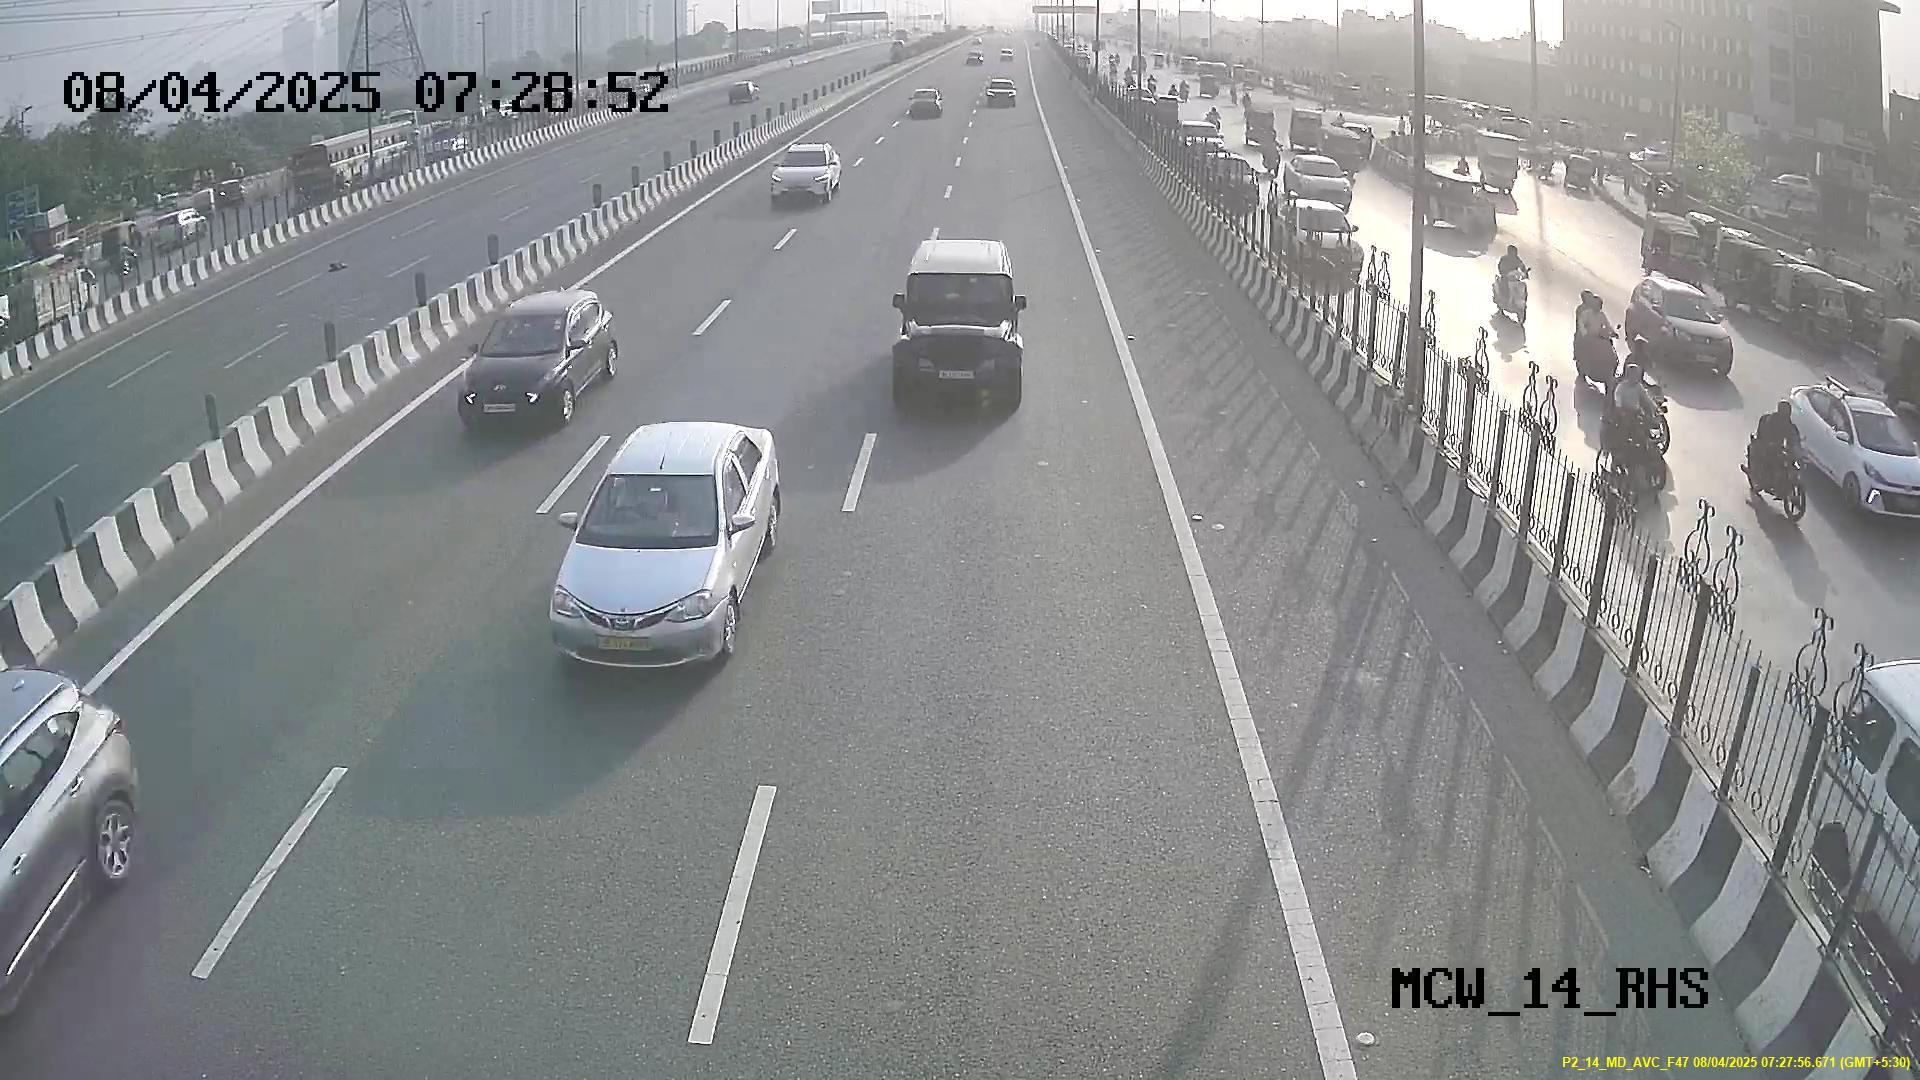car: (549, 443, 754, 674), (881, 260, 1030, 415), (456, 299, 585, 429)
